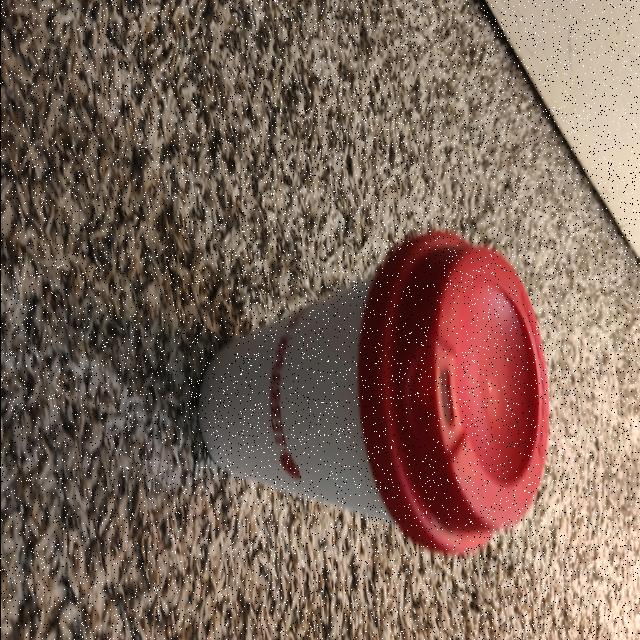mug: (193, 238, 542, 532)
